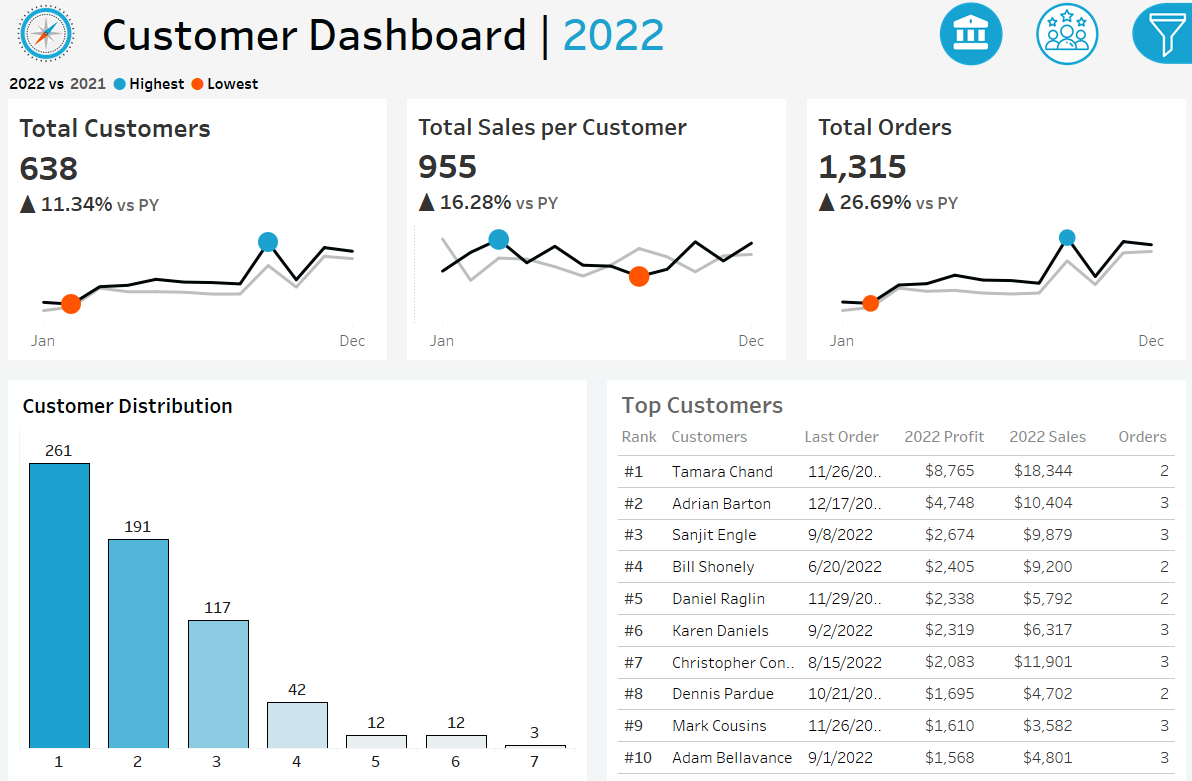

The dashboard page shown, as its layout file describes it:
{"tool":"tableau","page":{"name":"Customer Dashboard","canvas":[1200,800],"ordinal":0},"visuals":[{"type":"image","param":"C:/Users/sampath/Downloads/Sales-Dashboard-Materials/Sales Dashboard Materials/D","box":[1,1,96,72]},{"type":"text","box":[97,1,717,72]},{"type":"dashboard-object","box":[925,1,97,73]},{"type":"dashboard-object","box":[1022,1,96,73]},{"type":"blank","box":[938,10,250,92]},{"type":"worksheet","title":"Legends KPI","mark":"Automatic","box":[1,73,1198,30]},{"type":"text","box":[938,102,250,40]},{"type":"worksheet","title":"KPI Customers","mark":"Automatic","rows":["Calculation_806144345181462530"],"cols":["Order Date"],"box":[1,103,399.3,271]},{"type":"worksheet","title":"KPI Sales per Customers","mark":"Automatic","rows":["Calculation_806144345194856456"],"cols":["Order Date"],"box":[400.3,103,399.3,271]},{"type":"worksheet","title":"KPI Orders","mark":"Automatic","rows":["Calculation_806144345202053137"],"cols":["Order Date"],"box":[799.7,103,399.3,271]},{"type":"blank","box":[938,142,250,40]},{"type":"parameter","param":"[Parameters].[Parameter 1]","box":[938,182,250,64]},{"type":"text","box":[938,246,250,40]},{"type":"filter","title":"KPI Customers","param":"[federated.0ynalc80prbm5z1ay8zk4111c4gk].[none:Category:nk]","box":[938,286,250,61]},{"type":"filter","title":"KPI Customers","param":"[federated.0ynalc80prbm5z1ay8zk4111c4gk].[none:Sub-Category:nk]","box":[938,347,250,61]},{"type":"text","box":[18,391,565,36]},{"type":"text","box":[617,391,565,34]},{"type":"blank","box":[938,408,250,60]},{"type":"text","box":[617,425,50,30]},{"type":"text","box":[667,425,133,30]},{"type":"text","box":[800,425,100,30]},{"type":"text","box":[900,425,105,30]},{"type":"text","box":[1005,425,109,30]},{"type":"text","box":[1114,425,68,30]},{"type":"worksheet","title":"Customer Distribution","mark":"Bar","rows":["Calculation_806144345179779072"],"cols":["Calculation_806144345209999381"],"box":[18,427,565,355]},{"type":"worksheet","title":"Top Customers","mark":"Automatic","rows":["Calculation_806144345220087834","CY Customers (copy)_806144345215844375","Order Date"],"box":[617,455,565,327]},{"type":"text","box":[938,468,250,40]},{"type":"filter","title":"KPI Customers","param":"[federated.0ynalc80prbm5z1ay8zk4111c4gk].[none:Region:nk]","box":[938,508,250,61]},{"type":"filter","title":"KPI Customers","param":"[federated.0ynalc80prbm5z1ay8zk4111c4gk].[none:State:nk]","box":[938,569,250,61]},{"type":"filter","title":"KPI Customers","param":"[federated.0ynalc80prbm5z1ay8zk4111c4gk].[none:City:nk]","box":[938,630,250,61]}]}

Visuals, with their boxes in screenshot pixels (x1, y1, x2, y2), scaled from the page's 1200x800 canvas onto the 1192x781 screenshot:
image: [left=1, top=1, right=96, bottom=71]
text: [left=96, top=1, right=809, bottom=71]
dashboard-object: [left=919, top=1, right=1015, bottom=72]
dashboard-object: [left=1015, top=1, right=1111, bottom=72]
blank: [left=932, top=10, right=1180, bottom=100]
"Legends KPI" worksheet: [left=1, top=71, right=1191, bottom=101]
text: [left=932, top=100, right=1180, bottom=139]
"KPI Customers" worksheet: [left=1, top=101, right=398, bottom=365]
"KPI Sales per Customers" worksheet: [left=398, top=101, right=794, bottom=365]
"KPI Orders" worksheet: [left=794, top=101, right=1191, bottom=365]
blank: [left=932, top=139, right=1180, bottom=178]
parameter: [left=932, top=178, right=1180, bottom=240]
text: [left=932, top=240, right=1180, bottom=279]
"KPI Customers" filter: [left=932, top=279, right=1180, bottom=339]
"KPI Customers" filter: [left=932, top=339, right=1180, bottom=398]
text: [left=18, top=382, right=579, bottom=417]
text: [left=613, top=382, right=1174, bottom=415]
blank: [left=932, top=398, right=1180, bottom=457]
text: [left=613, top=415, right=663, bottom=444]
text: [left=663, top=415, right=795, bottom=444]
text: [left=795, top=415, right=894, bottom=444]
text: [left=894, top=415, right=998, bottom=444]
text: [left=998, top=415, right=1107, bottom=444]
text: [left=1107, top=415, right=1174, bottom=444]
"Customer Distribution" worksheet (Bar marks): [left=18, top=417, right=579, bottom=763]
"Top Customers" worksheet: [left=613, top=444, right=1174, bottom=763]
text: [left=932, top=457, right=1180, bottom=496]
"KPI Customers" filter: [left=932, top=496, right=1180, bottom=555]
"KPI Customers" filter: [left=932, top=555, right=1180, bottom=615]
"KPI Customers" filter: [left=932, top=615, right=1180, bottom=675]
